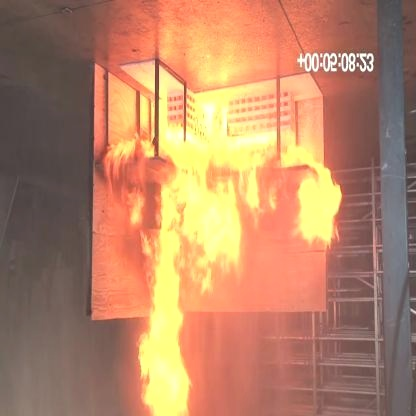fire: (102, 129, 340, 416)
